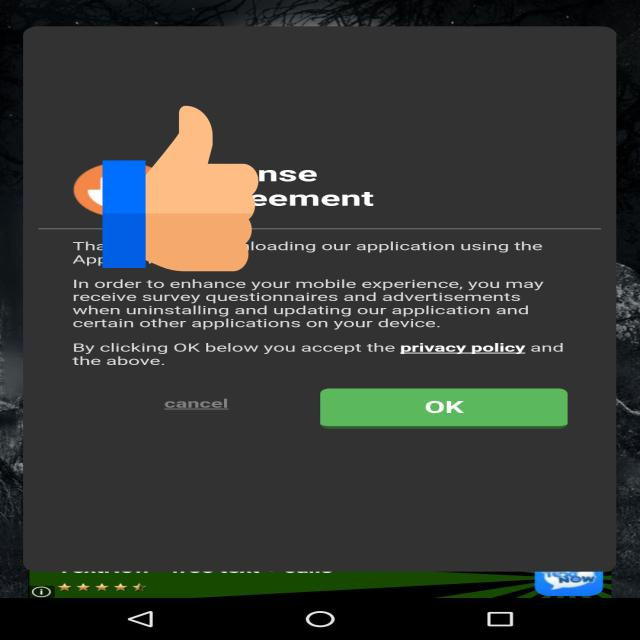privacy zuckering: (102, 102, 258, 275)
